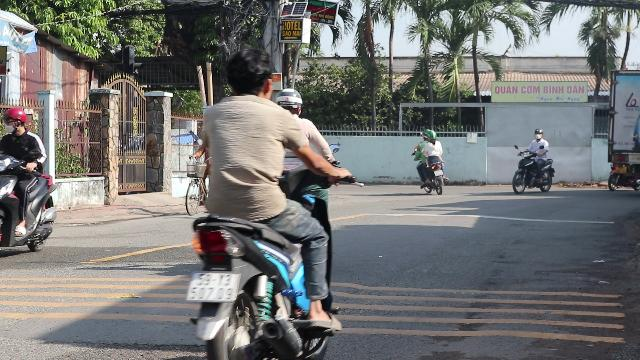helmet: (273, 87, 303, 115), (2, 107, 28, 135)
licenseplate: (186, 271, 240, 301)
motorcyclist: (178, 48, 350, 358), (0, 105, 60, 260)
nohelmet: (222, 48, 276, 100)
